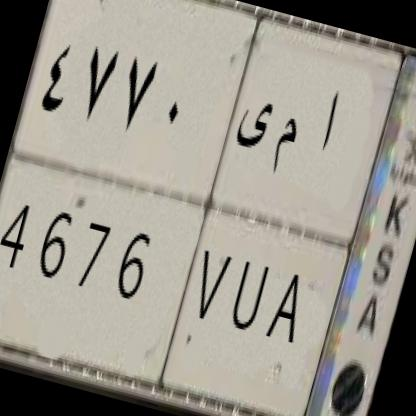english: (0, 141, 366, 416)
